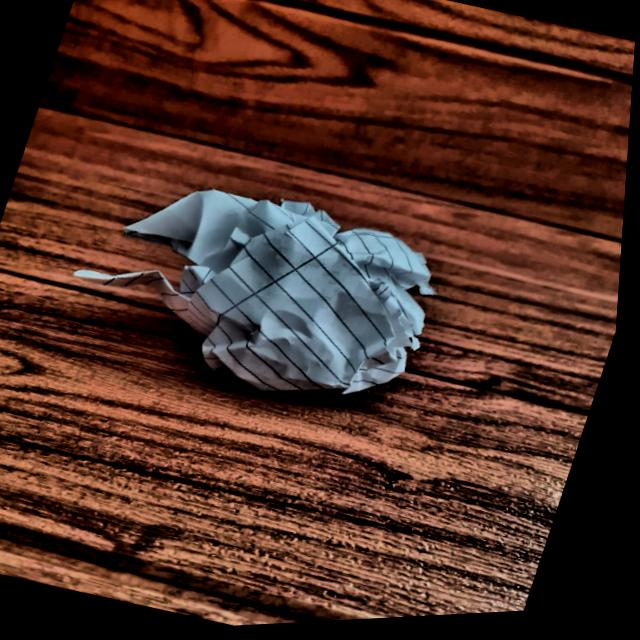Paper: (87, 160, 472, 439)
